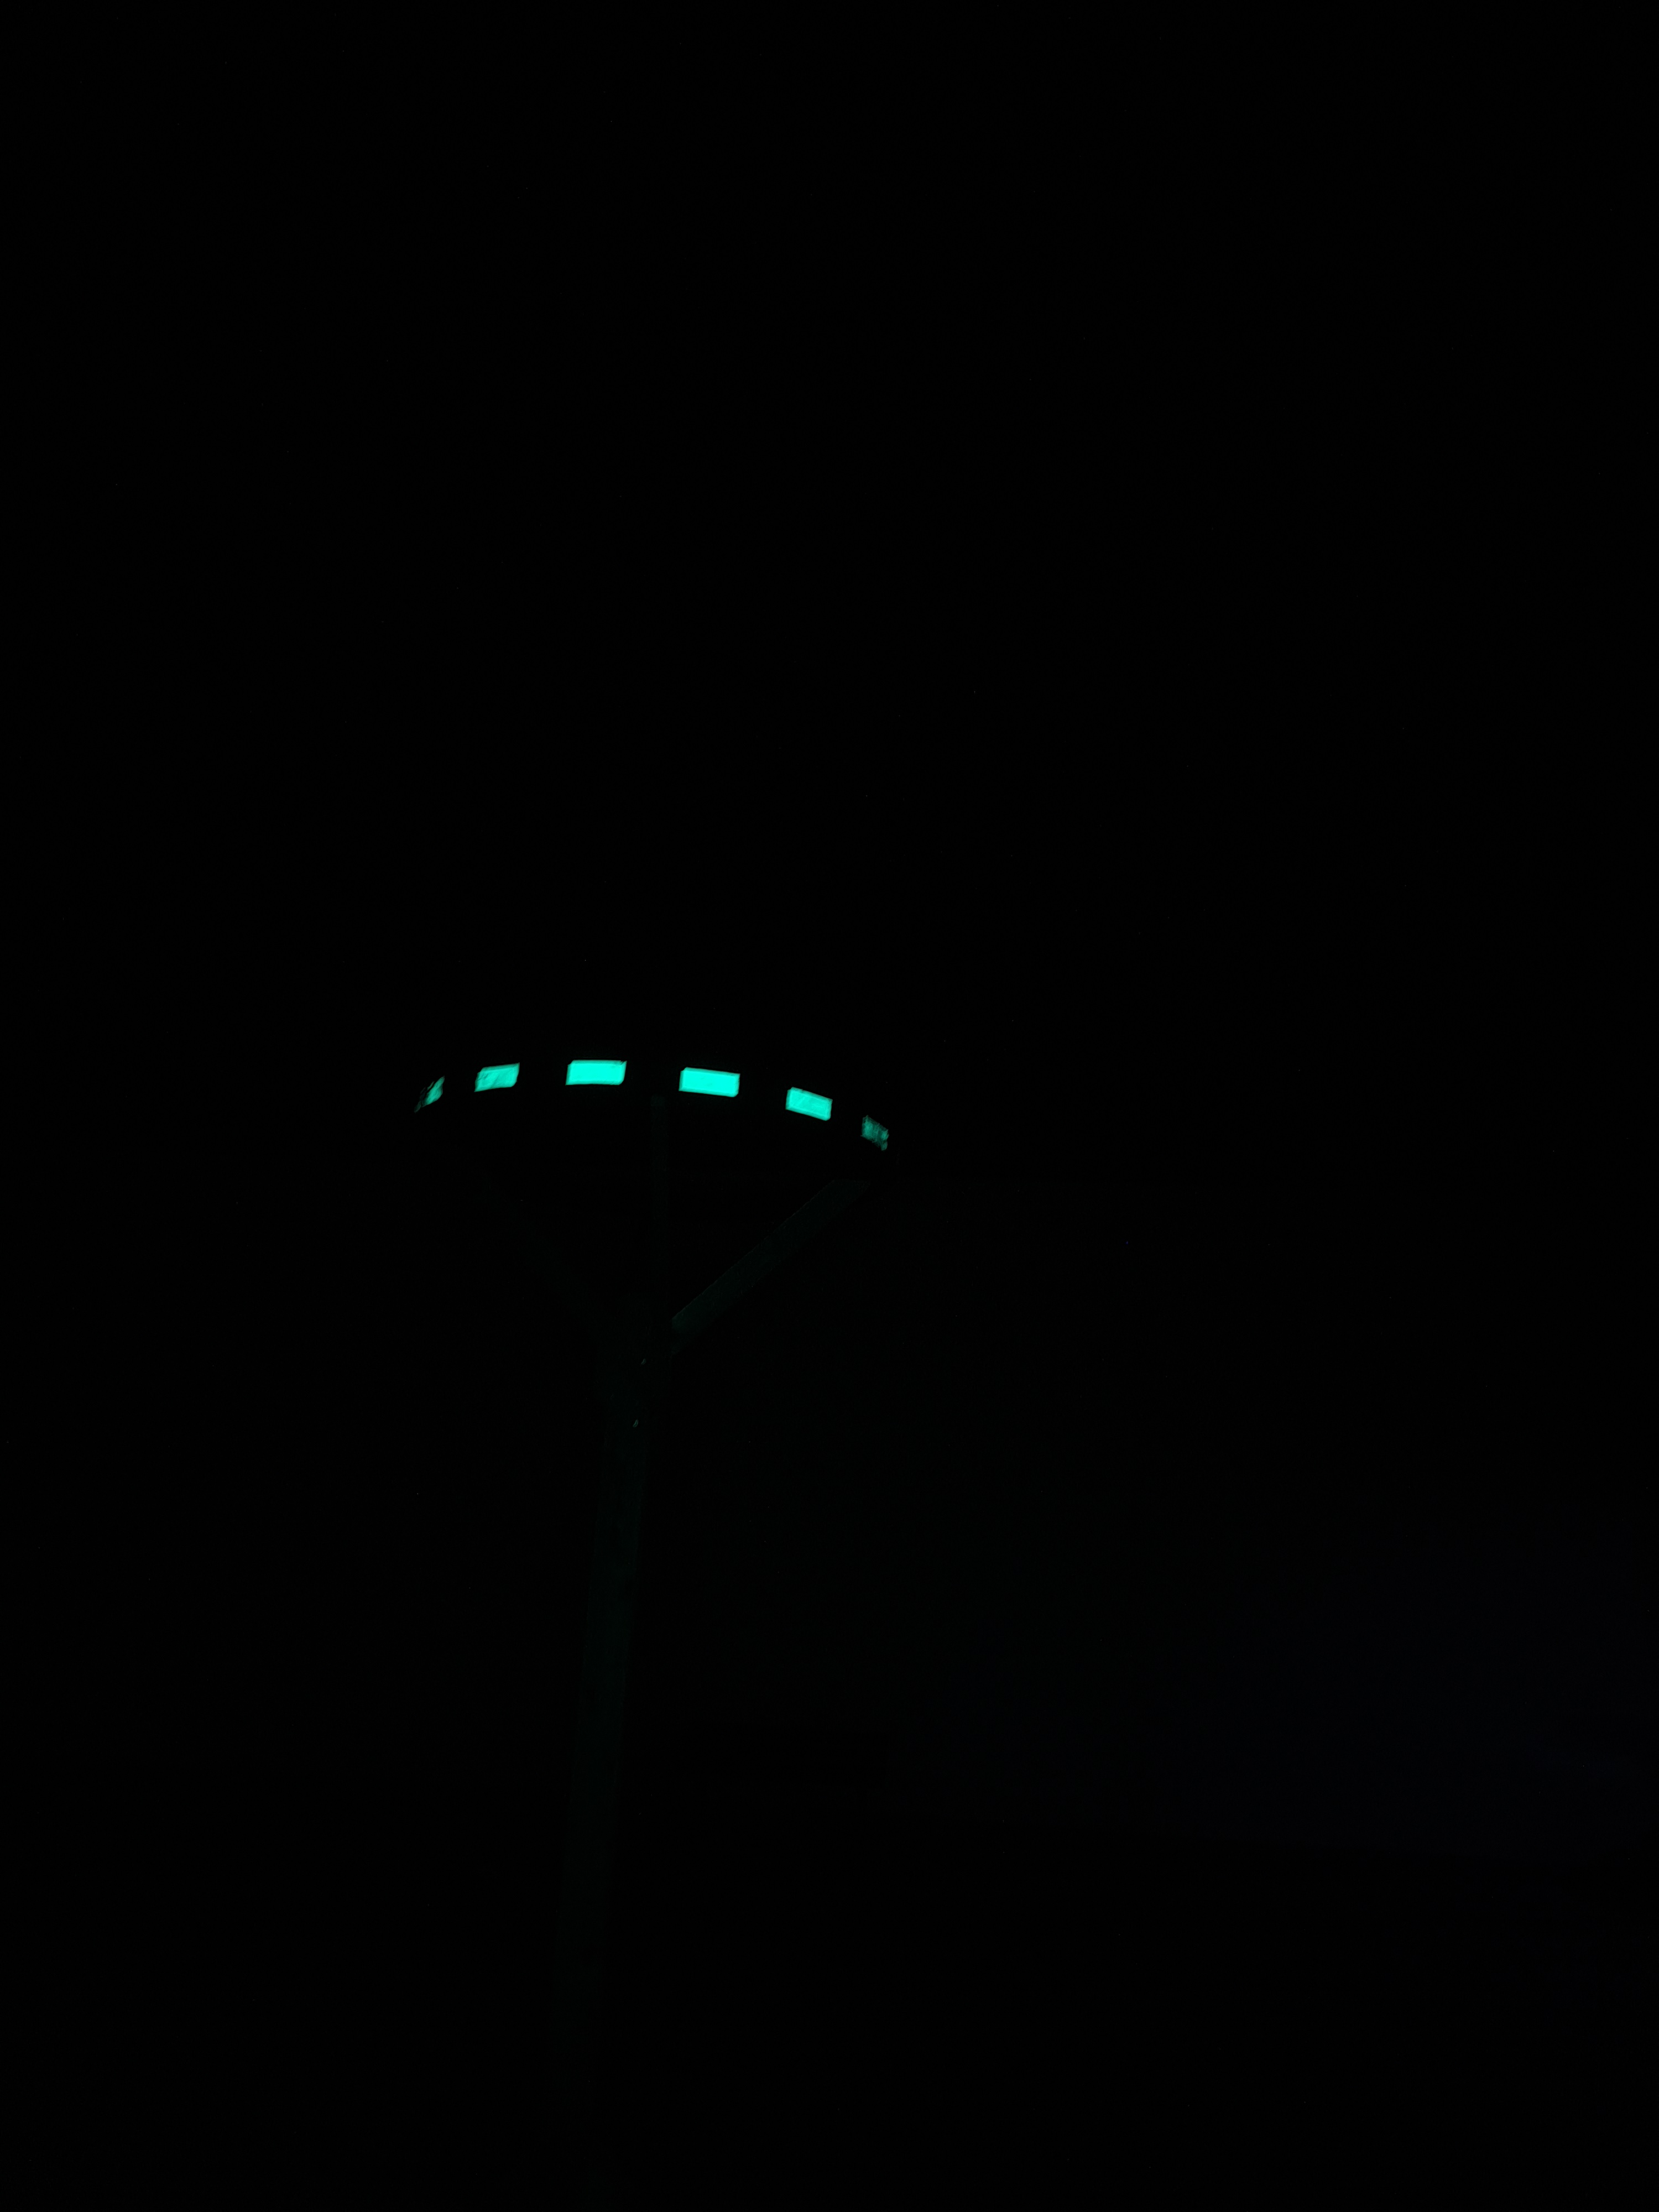hoop: (406, 1045, 896, 1162)
